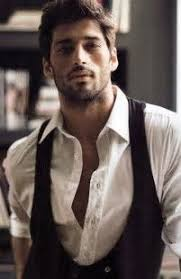middle_eastern_male: (47, 15, 121, 99)
